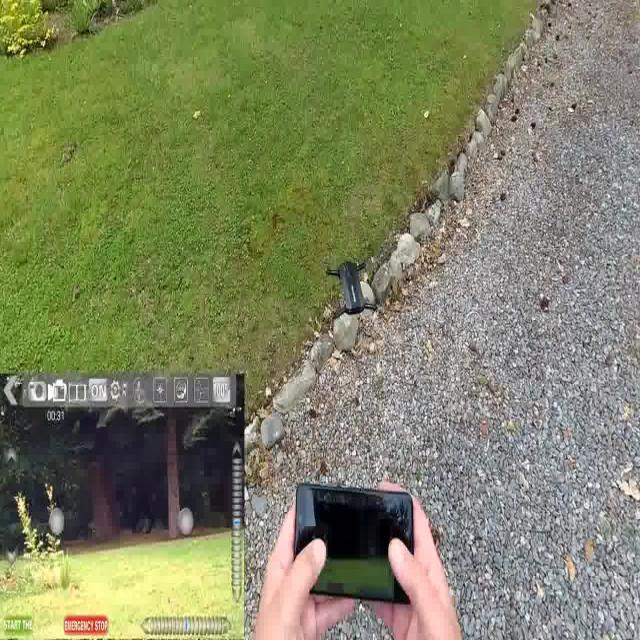drone: (321, 253, 381, 320)
